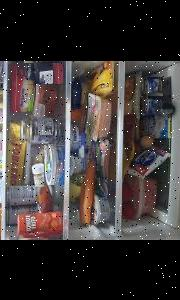Aguacate: (0, 60, 11, 89), (0, 66, 11, 92)
Huevos: (142, 134, 155, 148)
Mantequilla: (10, 62, 34, 113)
Tomate: (122, 201, 135, 219)
Yogur: (141, 76, 163, 95), (0, 178, 13, 202), (0, 154, 13, 174)
Zanahoria: (84, 158, 95, 225)
